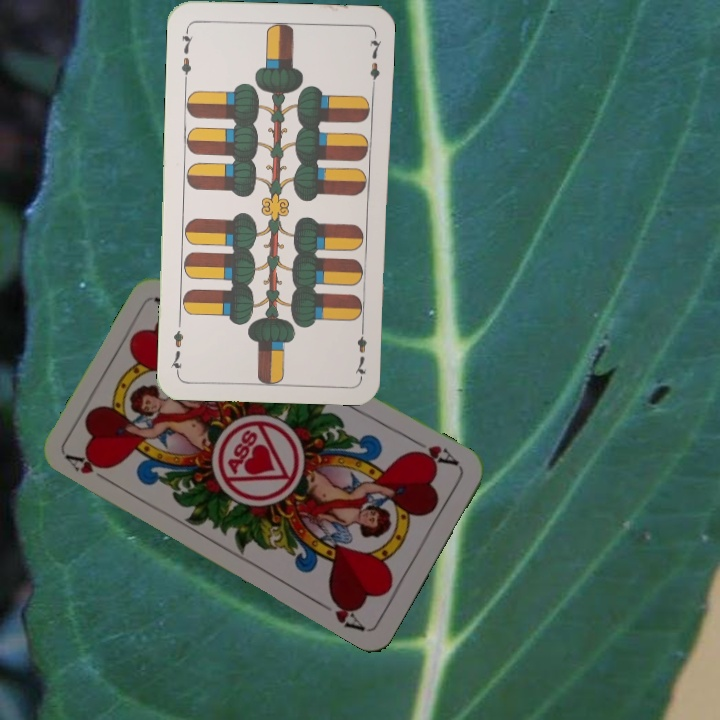E7: (351, 320, 370, 379), (177, 25, 195, 84)
HA: (63, 448, 117, 488), (406, 435, 462, 469)
